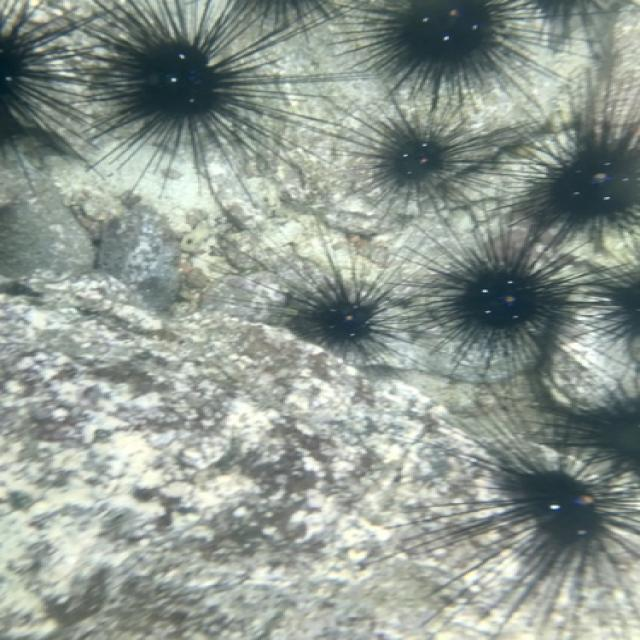Urchin: (396, 375, 640, 640), (51, 1, 367, 201), (382, 197, 606, 380), (290, 82, 543, 232), (202, 218, 436, 371), (496, 65, 640, 259), (324, 2, 582, 106), (2, 1, 116, 187)
